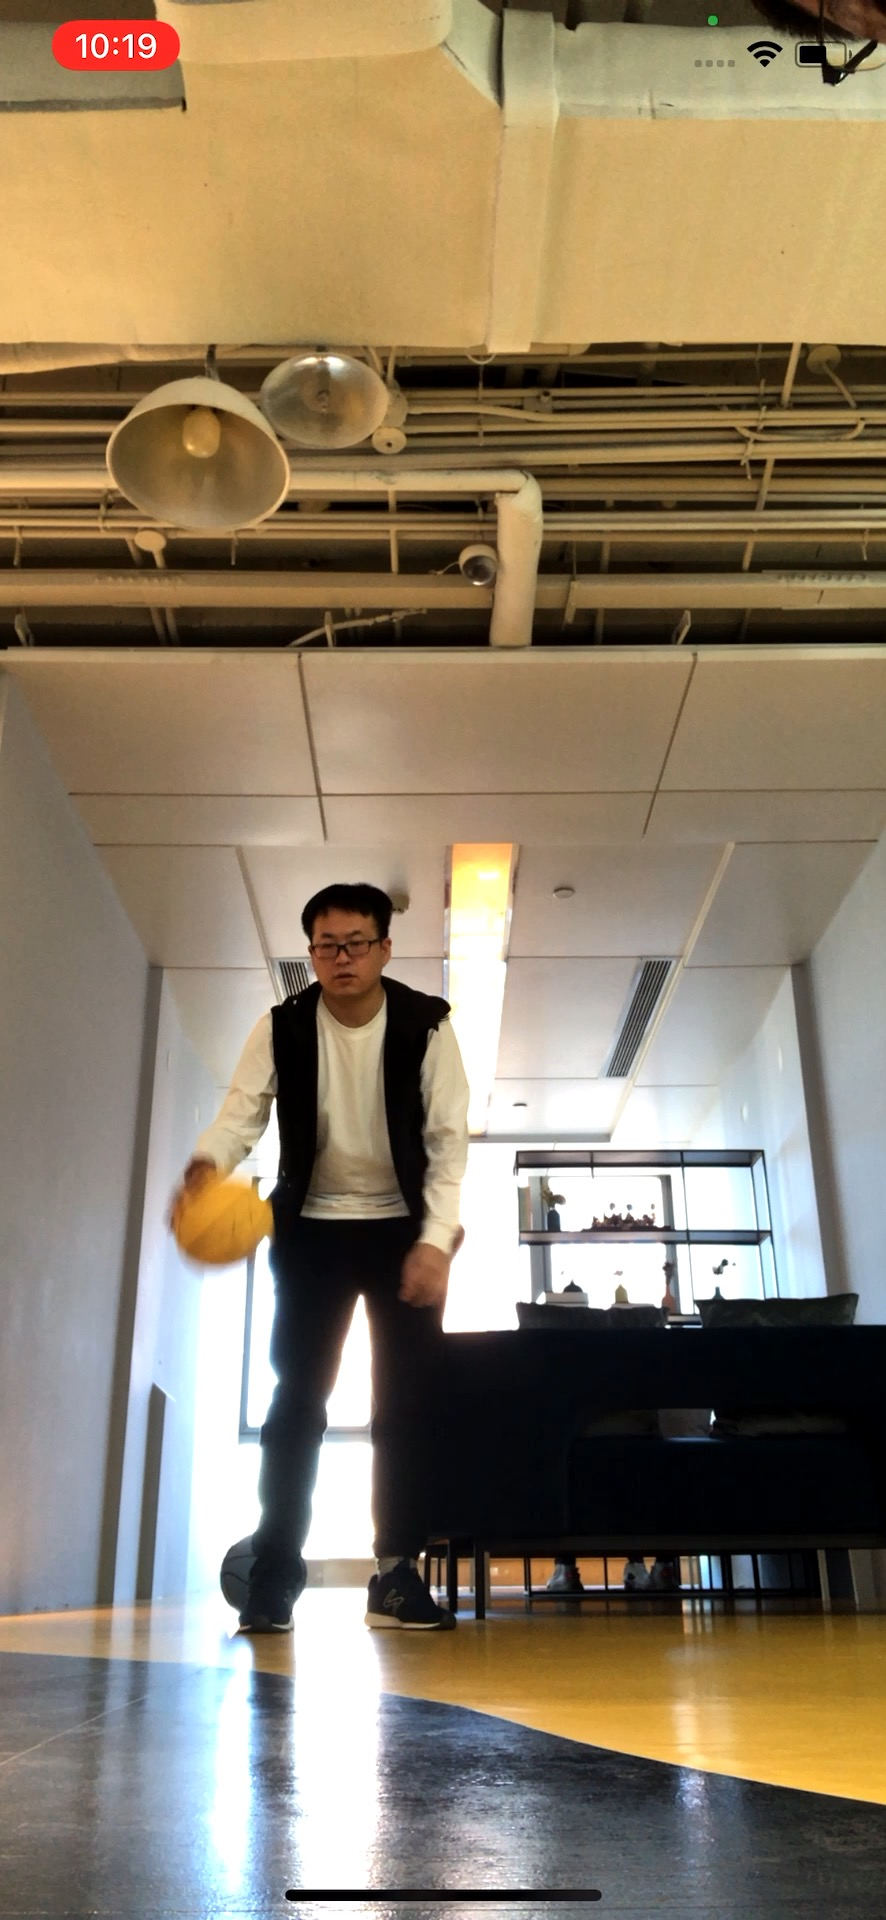ball: (170, 1174, 270, 1276)
